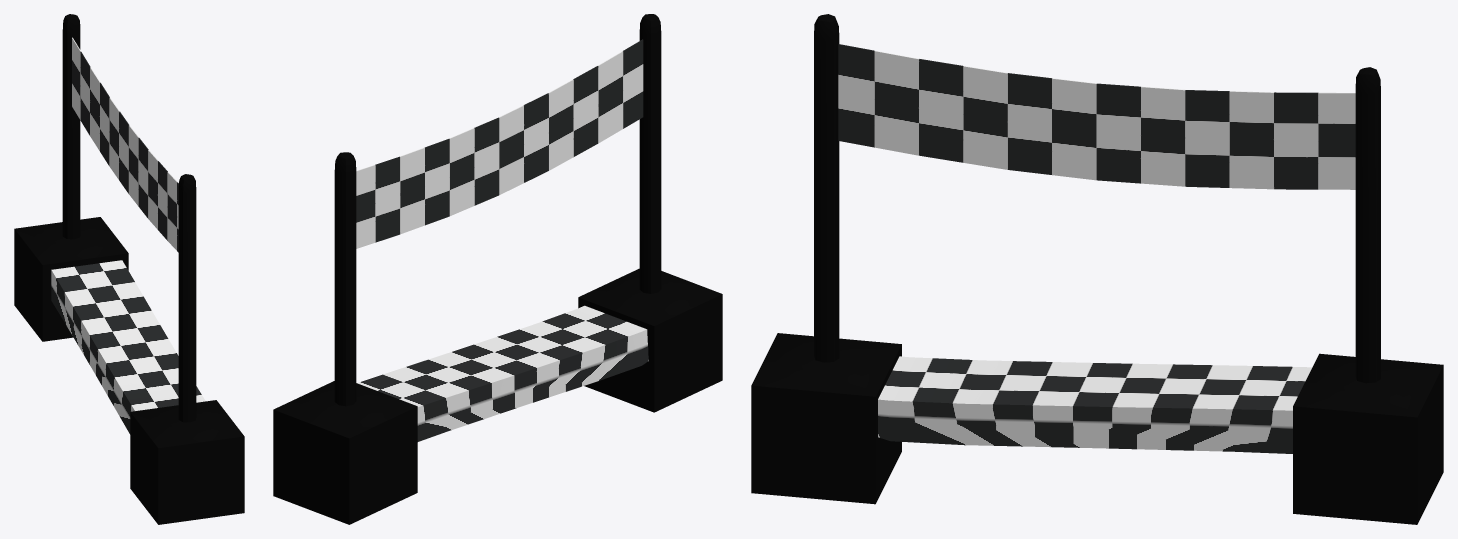
Rendered from finish_line.obj.
The picture shows the model from 3 angles, left to right: view 1: azimuth 30°, elevation 25°; view 2: azimuth 150°, elevation 25°; view 3: azimuth 270°, elevation 25°; orthographic projection. The views are drawn at different scales.
Parts seen in each view (by area): view 1: flag; view 2: flag; view 3: flag.
Boxes of the visible parts, x1,y1,x2,y2 form: flag: (14, 14, 244, 524); flag: (273, 14, 722, 524); flag: (751, 14, 1443, 524).
Size of the model in its own units: 11.62 by 21.27 by 29.17.
Materials: 2 (1 with a texture image).
